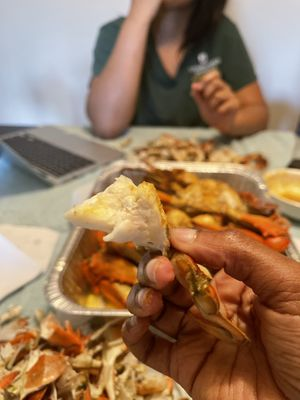curry: (1, 121, 300, 400)
